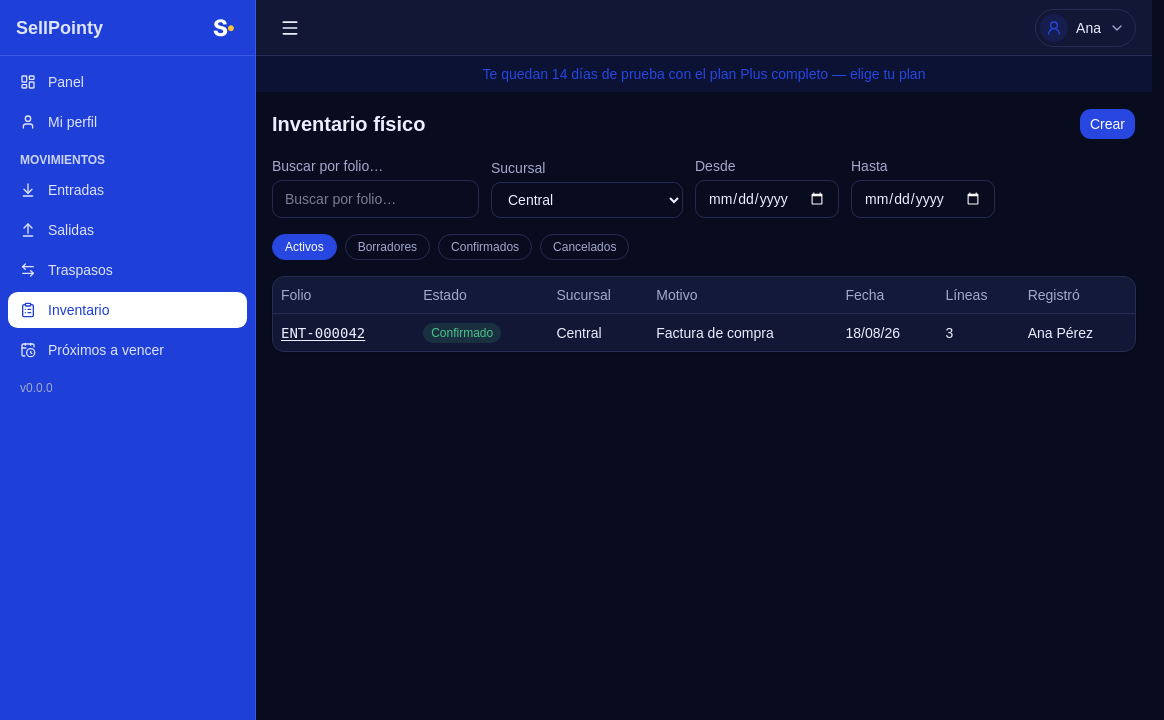
Test: crear con uno abierto (Carlos, 2026-09-01) › el 409 se muestra con el folio que estorba y el botón vuelve a servir
Expected: the link "ENT-000042" is shown, [281,324,365,340]
Click the button "Crear". click: (1108, 124)
box: [1079,108,1136,140]
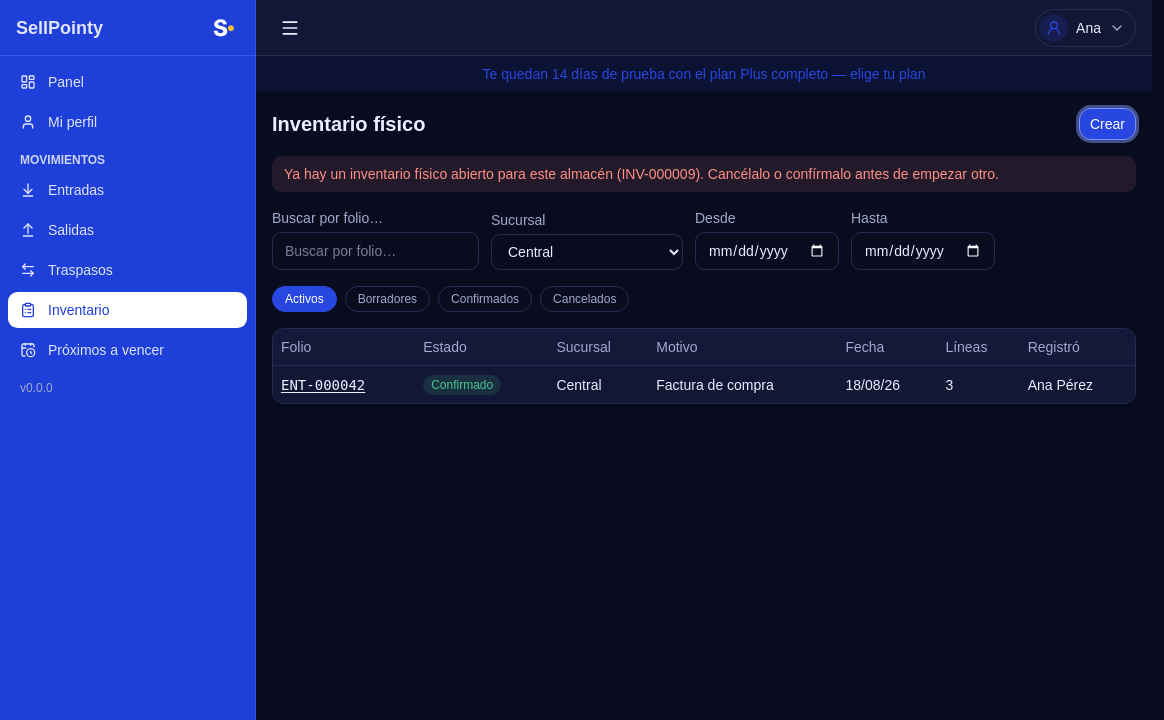
Result: the message shows "INV-000009" at [284,166,999,182]
